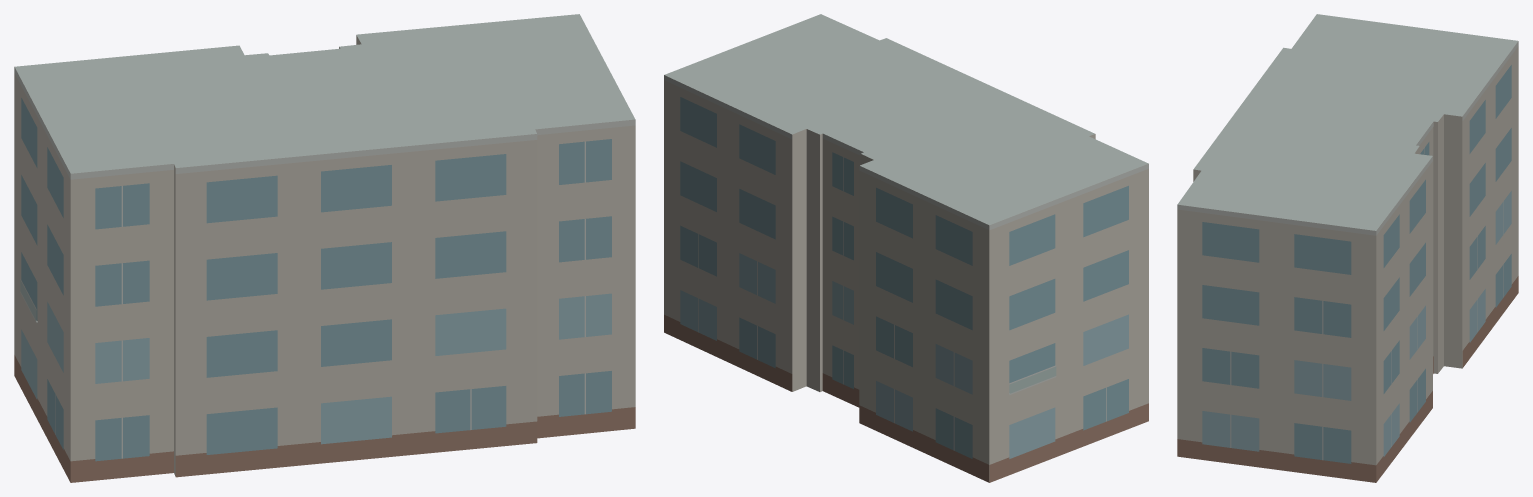
File: survey-upis-32829012.glb
3 renders of one model, left to right at view 1: azimuth 30°, elevation 25°; view 2: azimuth 150°, elevation 25°; view 3: azimuth 270°, elevation 25°, orthographic. The views are drawn at different scales.
Parts seen in each view (by area): view 1: survey-upis-32829012.tmp; view 2: survey-upis-32829012.tmp; view 3: survey-upis-32829012.tmp.
Boxes of the visible parts, x1=… form: survey-upis-32829012.tmp: x1=14, y1=14, x2=635, y2=482; survey-upis-32829012.tmp: x1=664, y1=14, x2=1148, y2=482; survey-upis-32829012.tmp: x1=1177, y1=14, x2=1518, y2=482.
Size of the model in its own units: 23.28 by 12.6 by 15.48.
